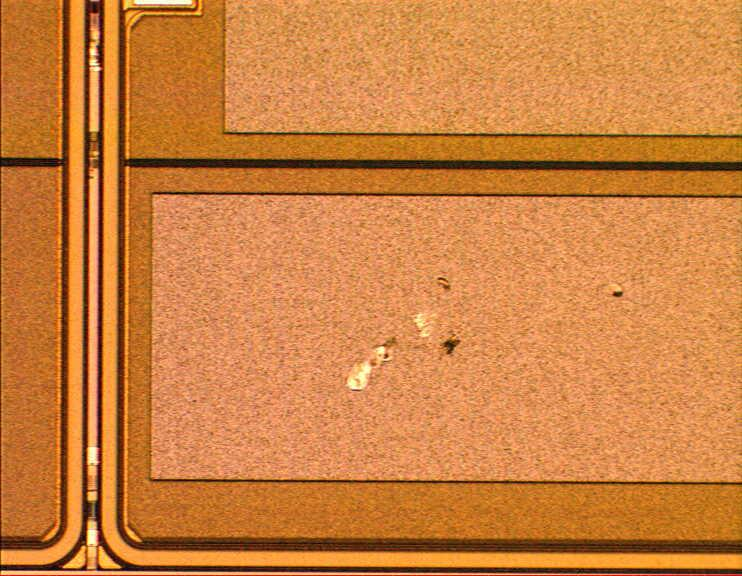SCRATCH: (339, 269, 646, 404)
